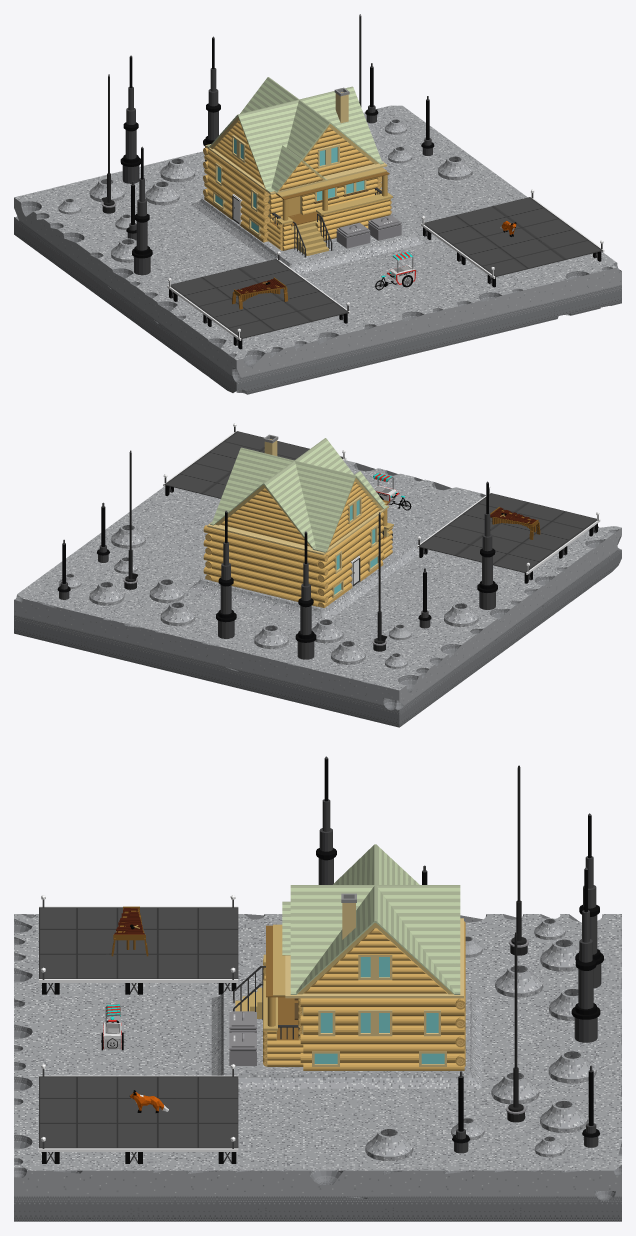
3 views of the same model, one above another, from view 1: azimuth 30°, elevation 25°; view 2: azimuth 150°, elevation 25°; view 3: azimuth 270°, elevation 25° (orthographic). The views are drawn at different scales.
Visible parts, largest first — view 1: Cube.027, Cube.1516, Cube.026, Cube.025, Cube.028, Cylinder.020, Cylinder.021, Cylinder.017, OBJRANDOM_MARIMBA, VEHICLES_SNOWBAL_BIKE, Cube.029, Cube.030 (+4 smaller); view 2: Cube.027, Cube.1516, Cube.025, Cube.026, Cube.028, Cylinder.020, Cylinder.021, Cylinder.017, OBJRANDOM_MARIMBA, Cylinder.031, Cylinder.028, Cylinder.029 (+8 smaller); view 3: Cube.027, Cube.1516, Cube.026, Cube.025, Cube.028, Cylinder.017, Cylinder.020, Cylinder.021, Cylinder.033, Cylinder.031, Cylinder.029, Cylinder.026 (+10 smaller).
Boxes of the visible parts, box(x1,y1,x2,y2) form: Cube.027: box(14, 105, 621, 394); Cube.1516: box(203, 77, 392, 257); Cube.026: box(421, 189, 604, 287); Cube.025: box(167, 251, 350, 349); Cube.028: box(191, 197, 424, 274); Cylinder.020: box(120, 55, 140, 183); Cylinder.021: box(132, 146, 152, 275); Cylinder.017: box(203, 36, 220, 161); OBJRANDOM_MARIMBA: box(232, 277, 287, 309); VEHICLES_SNOWBAL_BIKE: box(374, 252, 415, 290); Cube.029: box(336, 222, 370, 248); Cube.030: box(368, 215, 401, 240); Cube.027: box(14, 460, 621, 727); Cube.1516: box(203, 434, 393, 607); Cube.025: box(417, 485, 600, 583); Cube.026: box(163, 423, 346, 498); Cube.028: box(190, 539, 419, 620); Cylinder.020: box(295, 531, 316, 659); Cylinder.021: box(477, 481, 497, 609); Cylinder.017: box(216, 510, 236, 638); OBJRANDOM_MARIMBA: box(490, 507, 540, 539); Cylinder.031: box(89, 581, 124, 605); Cylinder.028: box(331, 640, 365, 664); Cylinder.029: box(160, 601, 195, 626); Cube.027: box(14, 914, 621, 1221); Cube.1516: box(233, 844, 465, 1070); Cube.026: box(39, 1064, 238, 1163); Cube.025: box(39, 895, 238, 994); Cube.028: box(211, 991, 481, 1088); Cylinder.017: box(571, 867, 600, 1042); Cylinder.020: box(575, 813, 603, 988); Cylinder.021: box(316, 756, 336, 884); Cylinder.033: box(365, 1128, 413, 1160); Cylinder.031: box(540, 1100, 587, 1132); Cylinder.029: box(548, 1050, 596, 1083); Cylinder.026: box(495, 964, 543, 997).
Bounding box in the file's own units: 4000 × 1799 × 4000.
39 materials, 5 textured.
